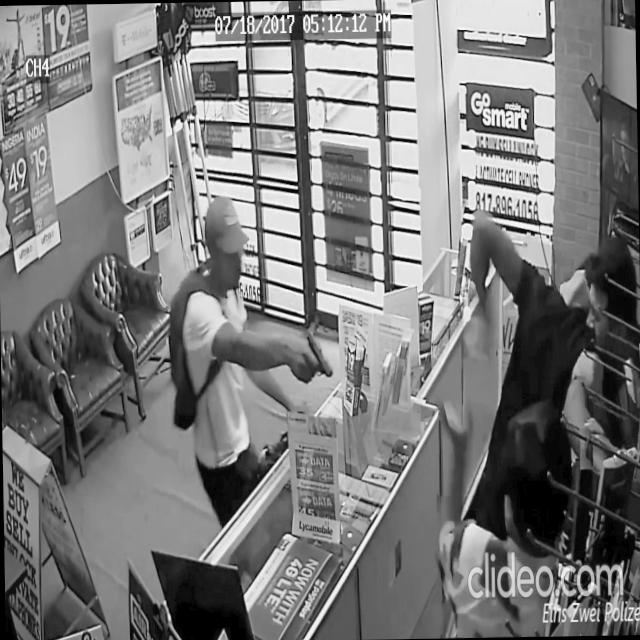gun: (306, 328, 334, 380)
person: (452, 201, 614, 638), (428, 376, 604, 638), (556, 228, 640, 635)
person with a gun: (165, 190, 338, 518)
